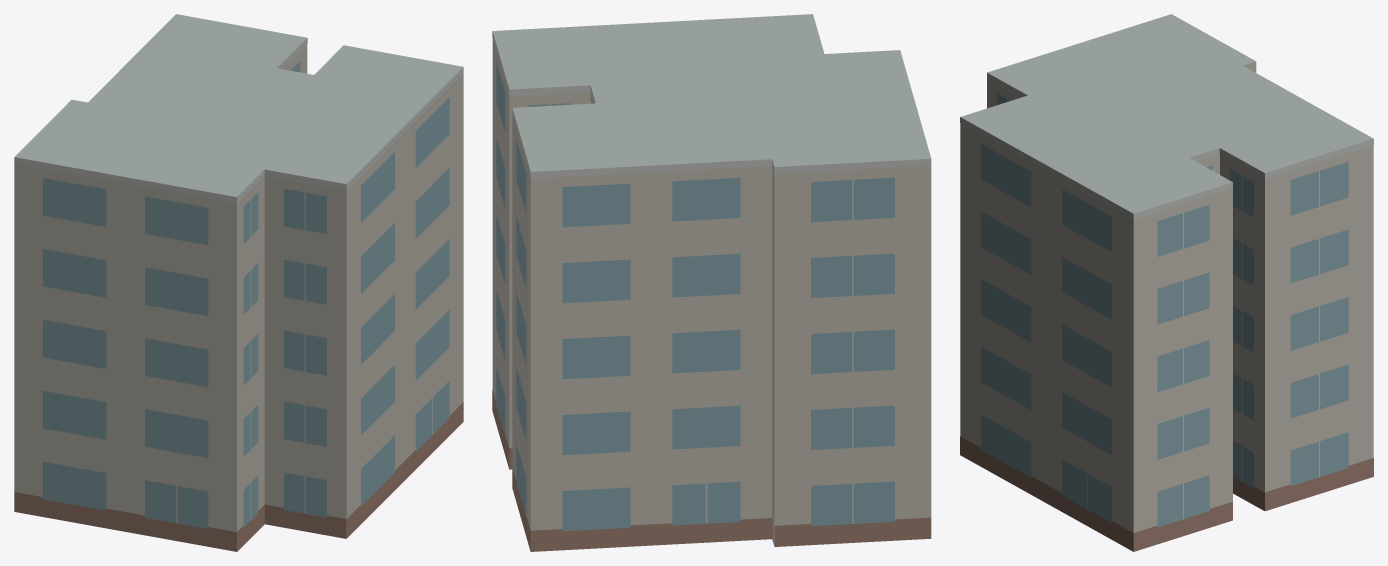
File: survey-upis-32905769.glb
The picture shows the model from 3 angles, left to right: view 1: azimuth 30°, elevation 25°; view 2: azimuth 150°, elevation 25°; view 3: azimuth 270°, elevation 25°; orthographic projection. The views are drawn at different scales.
Parts seen in each view (by area): view 1: survey-upis-32905769.tmp; view 2: survey-upis-32905769.tmp; view 3: survey-upis-32905769.tmp.
Part boxes in pixels (x1=…): survey-upis-32905769.tmp: x1=14, y1=14, x2=463, y2=551; survey-upis-32905769.tmp: x1=492, y1=14, x2=931, y2=551; survey-upis-32905769.tmp: x1=960, y1=14, x2=1373, y2=551.
Size of the model in its own units: 17.37 by 13.7 by 15.2.
